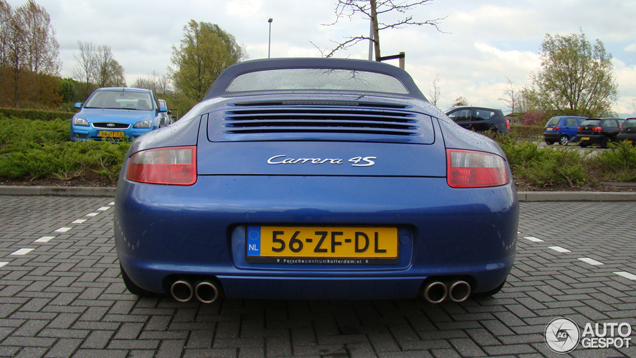kenteken: (246, 225, 398, 259)
